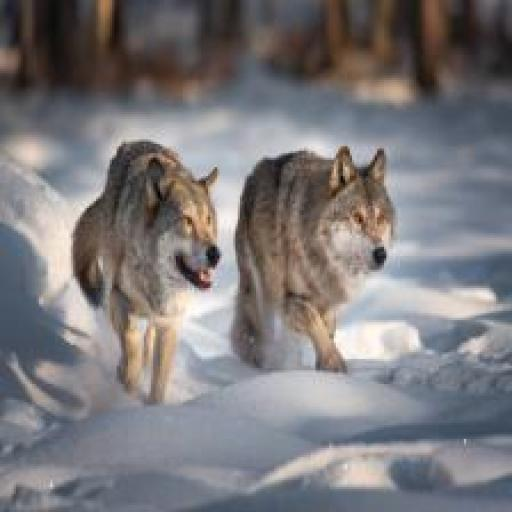wolf: (240, 76, 418, 420), (69, 84, 225, 404)
